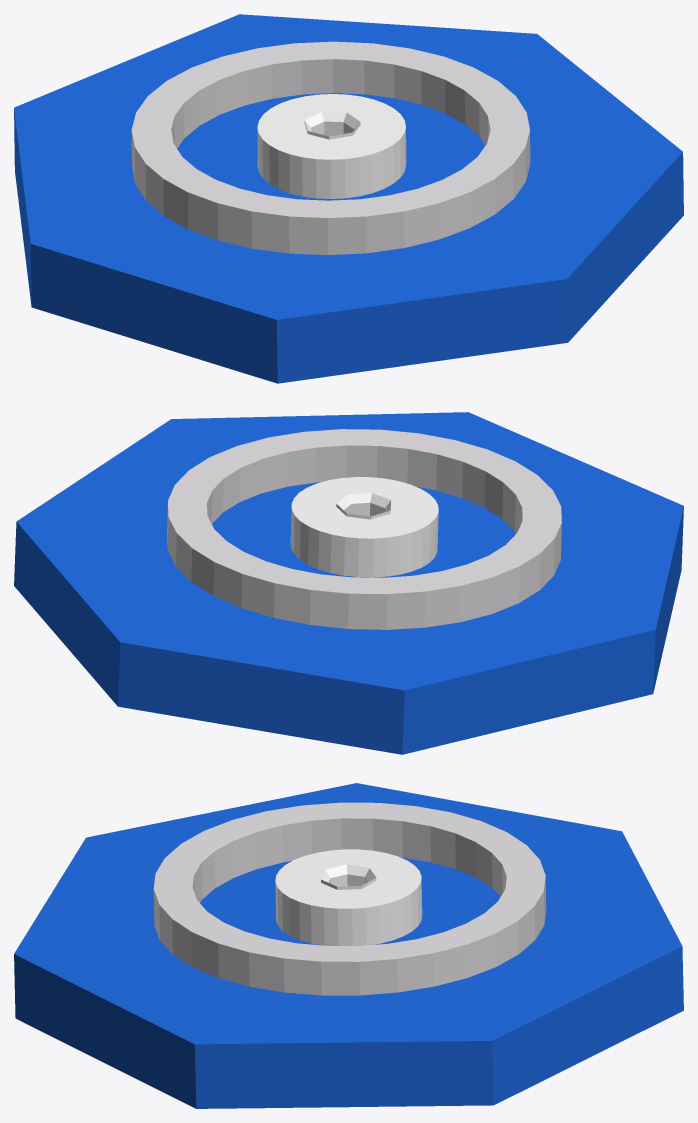
The model's file is Kubes3d.glb.
3 renders of one model, top to bottom at view 1: azimuth 30°, elevation 25°; view 2: azimuth 150°, elevation 25°; view 3: azimuth 270°, elevation 25°, orthographic.
Parts seen in each view (by area): view 1: Circle.002, Circle.001, Circle.003, Circle.005; view 2: Circle.002, Circle.001, Circle.003, Circle.005; view 3: Circle.002, Circle.001, Circle.003, Circle.005.
Boxes of the visible parts, x1,y1,x2,y2 form: Circle.002: (14,14,683,383); Circle.001: (131,41,530,255); Circle.003: (257,94,406,198); Circle.005: (304,111,360,139); Circle.002: (14,412,683,754); Circle.001: (167,429,561,629); Circle.003: (290,477,438,577); Circle.005: (336,493,391,519); Circle.002: (14,783,683,1108); Circle.001: (153,802,546,995); Circle.003: (275,849,422,945); Circle.005: (321,864,376,889).
Bounding box in the file's own units: 8.51 × 2.17 × 8.69.
